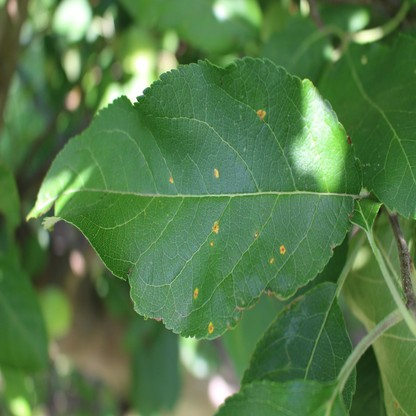frogeye_leaf_spot: (347, 137, 351, 143)
rust: (212, 221, 219, 234), (256, 108, 266, 117), (193, 288, 199, 298), (209, 322, 214, 333), (168, 176, 174, 184), (280, 245, 286, 253), (215, 168, 219, 179), (270, 258, 274, 264), (210, 241, 214, 246), (255, 232, 258, 237)
